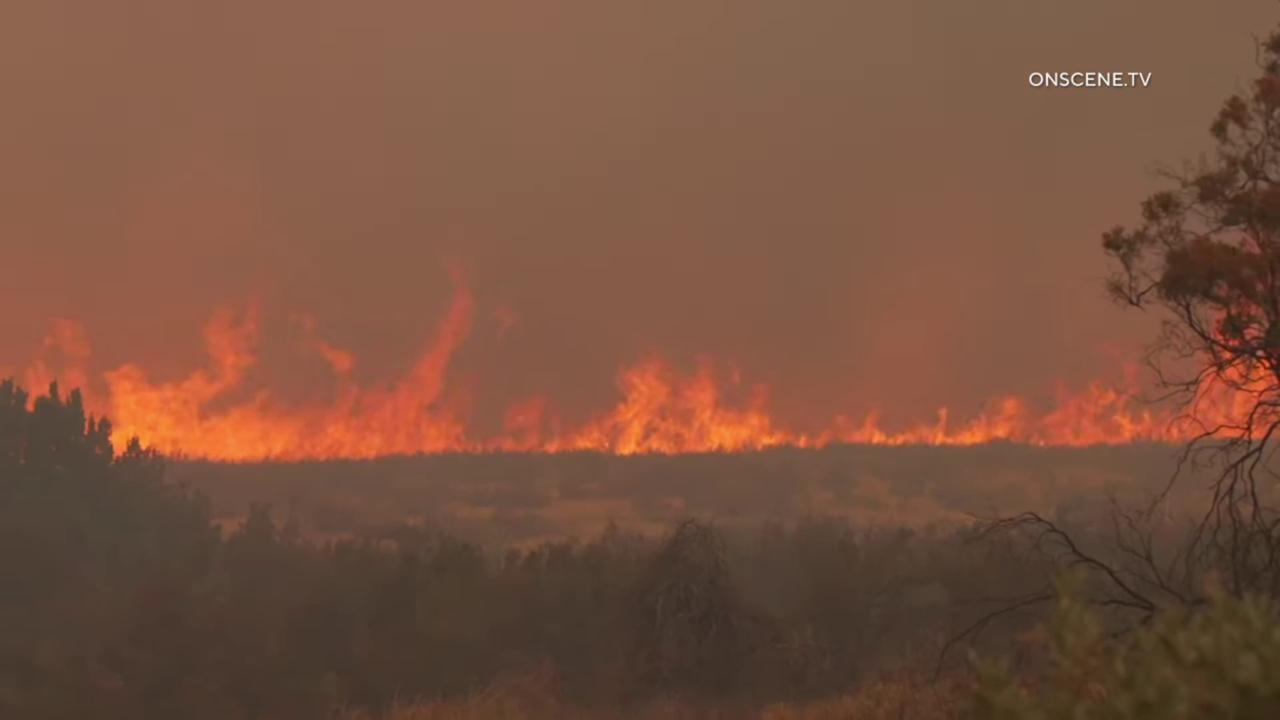fire: (0, 257, 1280, 468)
smoke: (0, 0, 1280, 530)
